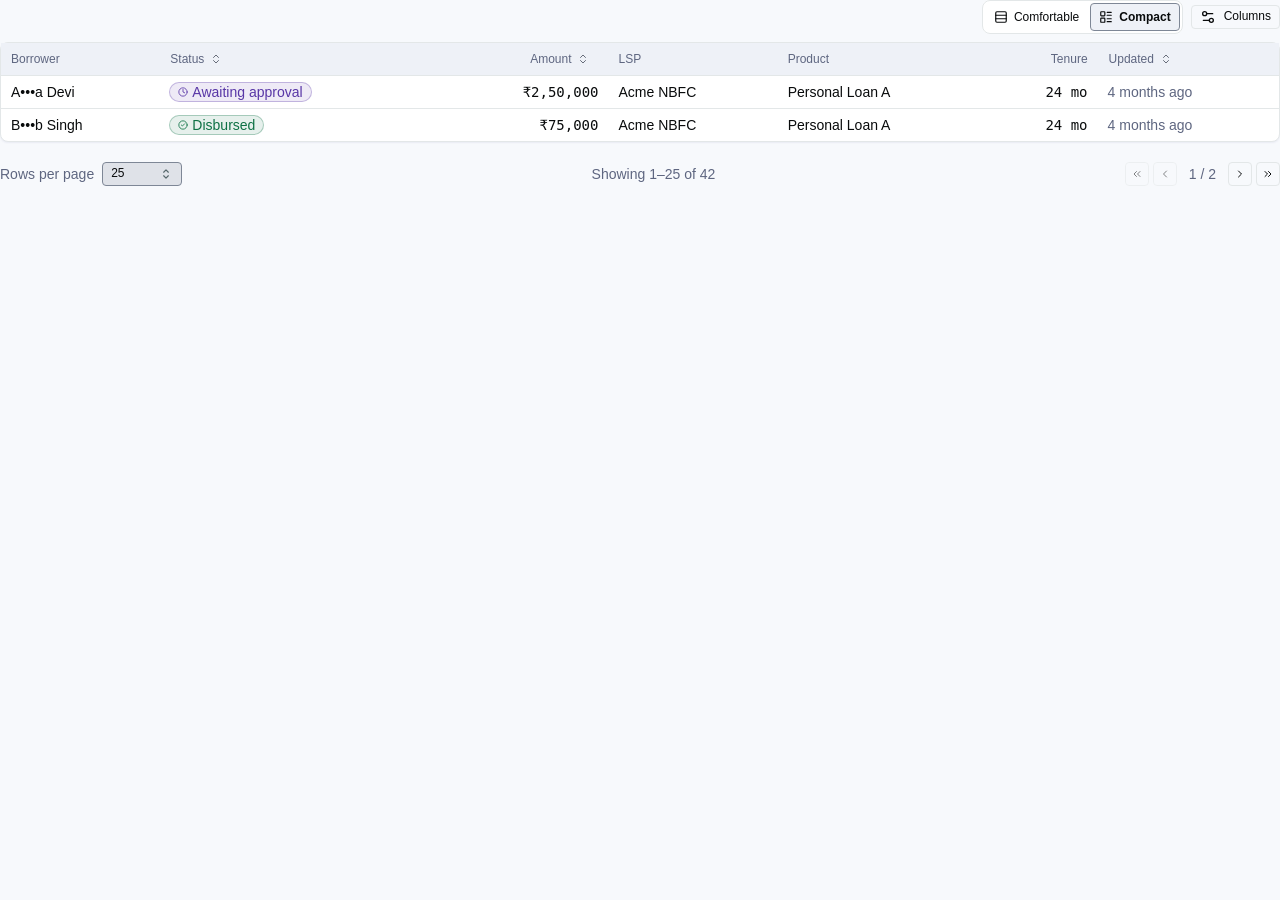
Test case: LoanApplicationsTable › offers the hidden identifier columns for restore under Columns
Click the button "Columns" at (1235, 17), box [1191,5,1279,29]
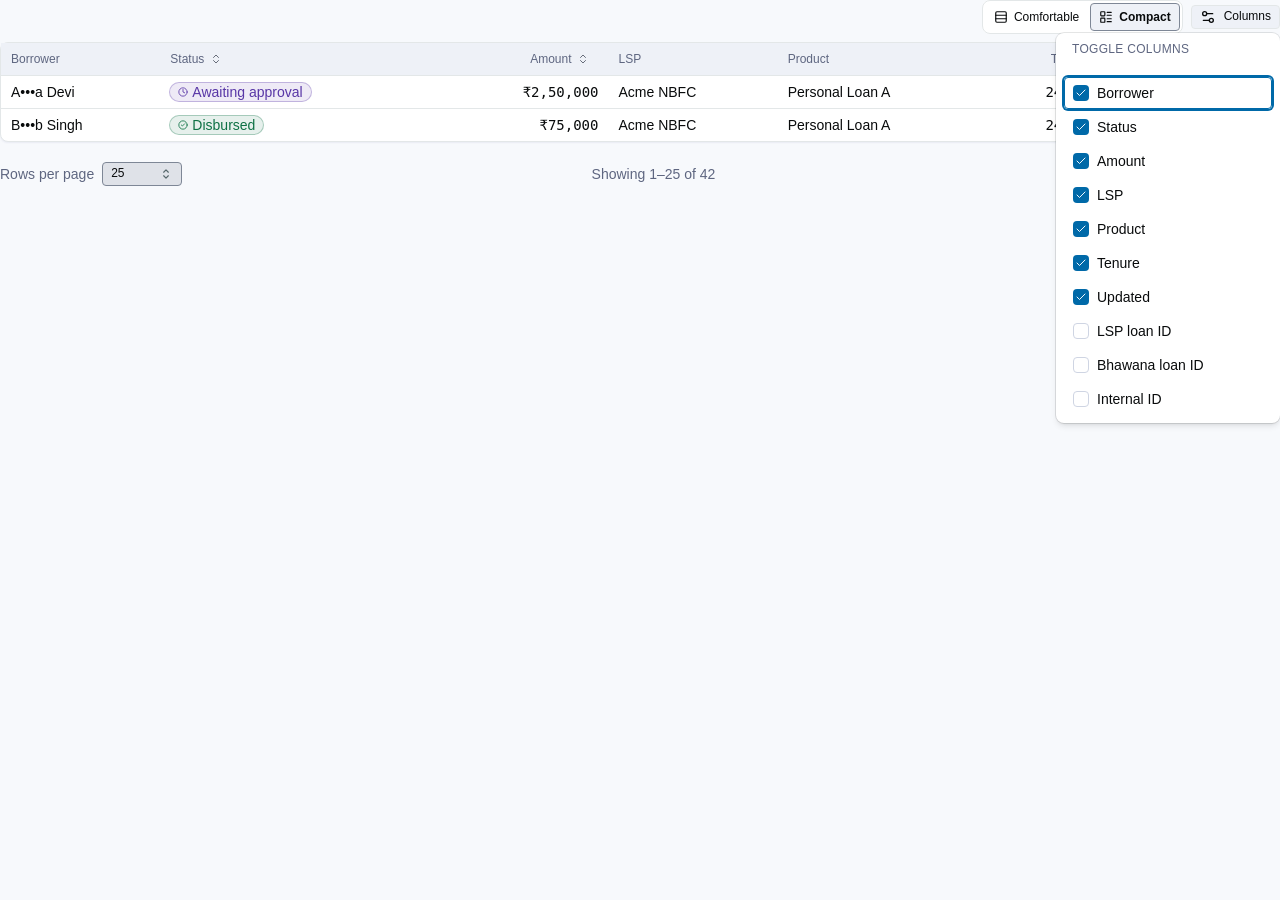
Check: the switch labelled "Bhawana loan ID" is shown, box [1064,349,1272,381]
Check: the switch labelled "Internal ID" is shown, box [1064,383,1272,415]
